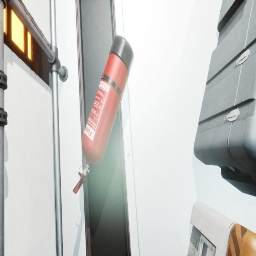FireExtinguisher ]: (72, 35, 134, 194)
